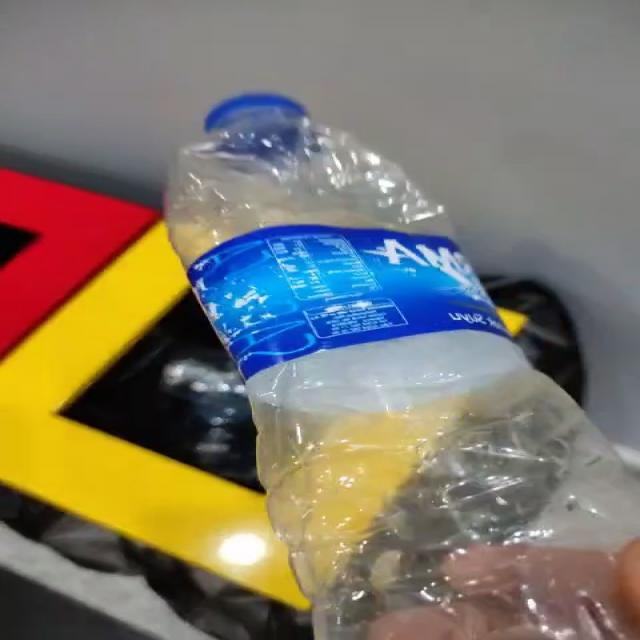plastic: (165, 95, 639, 640)
